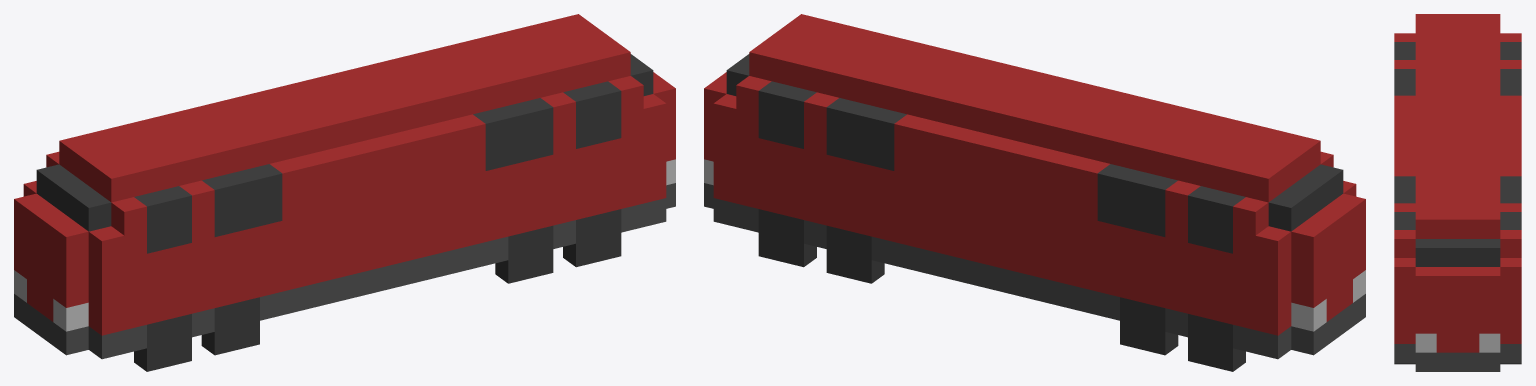
File: train-v3-red.gltf
3 renders of one model, left to right at view 1: azimuth 30°, elevation 25°; view 2: azimuth 150°, elevation 25°; view 3: azimuth 270°, elevation 25°, orthographic. The views are drawn at different scales.
Parts seen in each view (by area): view 1: model, wheels; view 2: model, wheels; view 3: model.
Part boxes in pixels (x1,y1,x2,y2): model: (14,14,675,359); wheels: (134,209,621,371); model: (704,14,1365,359); wheels: (758,209,1245,371); model: (1394,14,1521,371).
Size of the model in its own units: 2.7 by 0.8 by 0.6.
2 materials, 2 textured.
